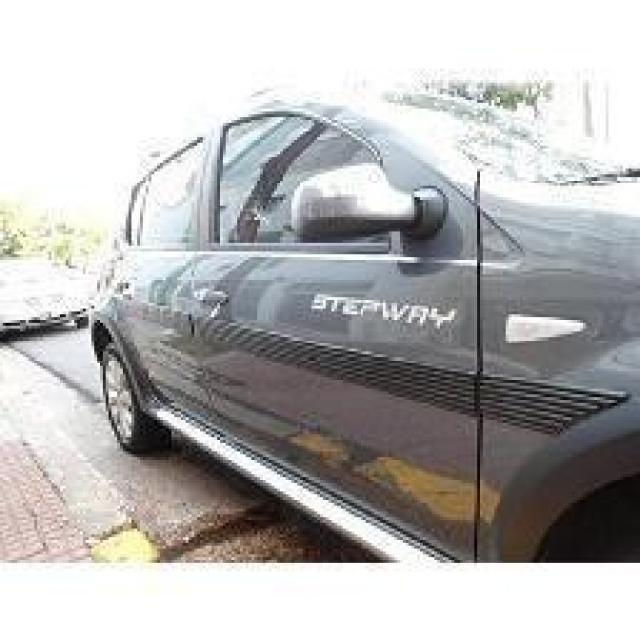damaged: (203, 254, 294, 346)
